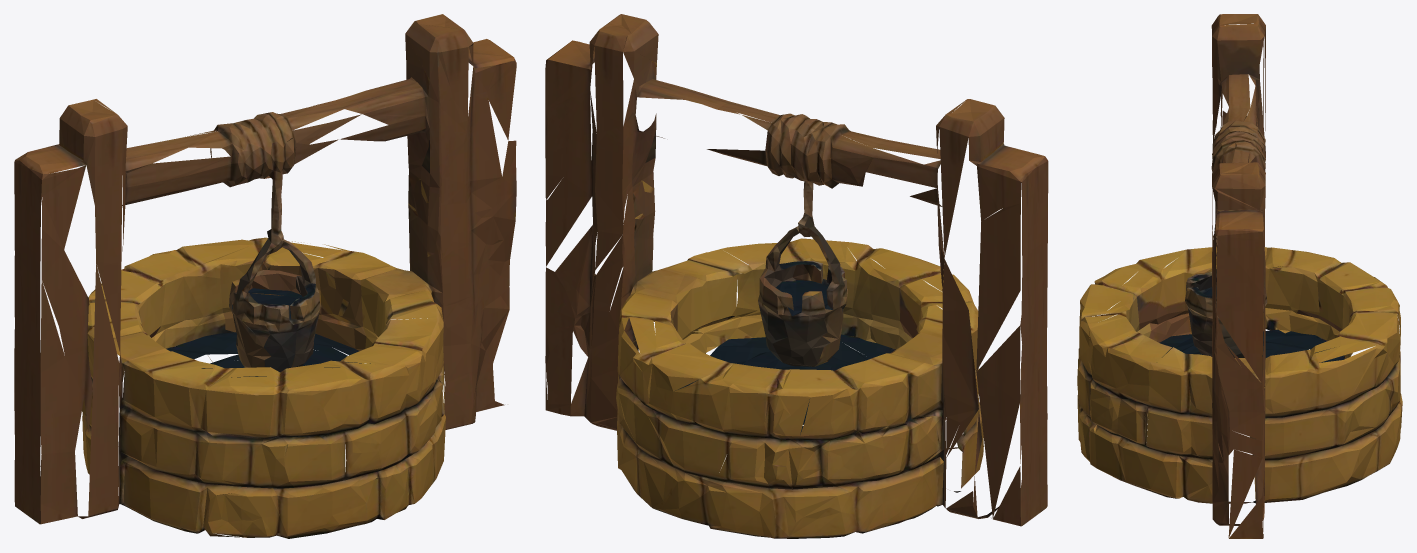
Rendered from well_tainted.glb.
The picture shows the model from 3 angles, left to right: view 1: azimuth 30°, elevation 25°; view 2: azimuth 150°, elevation 25°; view 3: azimuth 270°, elevation 25°; orthographic projection. The views are drawn at different scales.
Visible parts, largest first — view 1: geometry_0; view 2: geometry_0; view 3: geometry_0.
Part boxes in pixels (x1,y1,x2,y2): geometry_0: (14,14,516,538); geometry_0: (545,14,1048,538); geometry_0: (1077,14,1402,538).
Bounding box in the file's own units: 1.4 × 1.12 × 0.943.
1 material, 1 textured.
